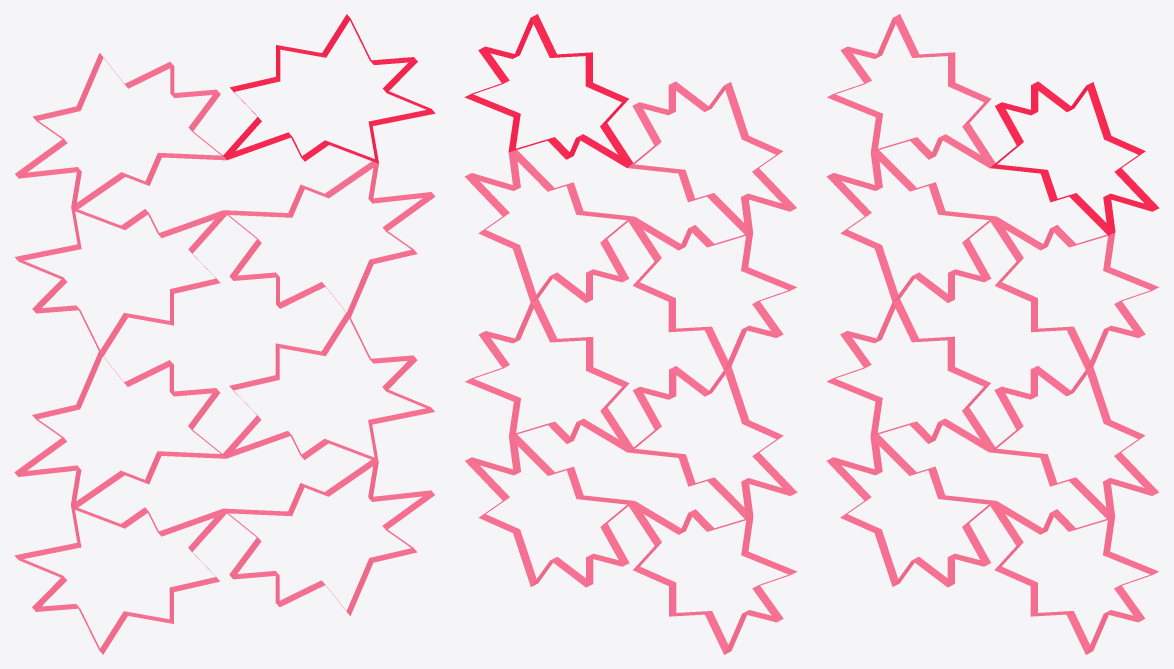
File: Stern3.0_Break_Dancer_fertig.glb
3 renders of one model, left to right at view 1: azimuth 30°, elevation 25°; view 2: azimuth 150°, elevation 25°; view 3: azimuth 330°, elevation 25°, orthographic. The views are drawn at different scales.
Visible parts, largest first — view 1: Cube.001, Cube.007, Cube.006, Cube.004, Cube.009, Cube.002, Cube.005, Cube.003; view 2: Cube.007, Cube.006, Cube.001, Cube.004, Cube.005, Cube.009, Cube.003, Cube.002; view 3: Cube.002, Cube.009, Cube.003, Cube.005, Cube.006, Cube.007, Cube.001, Cube.004.
Part boxes in pixels (x1,y1,x2,y2): Cube.001: (14, 351, 226, 509); Cube.007: (15, 53, 226, 210); Cube.006: (223, 459, 434, 615); Cube.004: (223, 161, 435, 317); Cube.009: (223, 14, 435, 163); Cube.002: (223, 313, 434, 461); Cube.005: (14, 505, 226, 654); Cube.003: (15, 207, 226, 356); Cube.007: (628, 81, 796, 235); Cube.006: (465, 434, 633, 587); Cube.001: (628, 366, 797, 519); Cube.004: (464, 150, 633, 302); Cube.005: (628, 501, 797, 654); Cube.009: (464, 14, 632, 167); Cube.003: (627, 216, 796, 369); Cube.002: (465, 299, 633, 452); Cube.002: (990, 366, 1158, 519); Cube.009: (990, 81, 1159, 235); Cube.003: (826, 150, 995, 302); Cube.005: (826, 434, 995, 587); Cube.006: (989, 501, 1158, 654); Cube.007: (827, 14, 995, 167); Cube.001: (826, 299, 995, 452); Cube.004: (989, 216, 1158, 370).
Bounding box in the file's own units: 1.85 × 2.76 × 0.3644.
